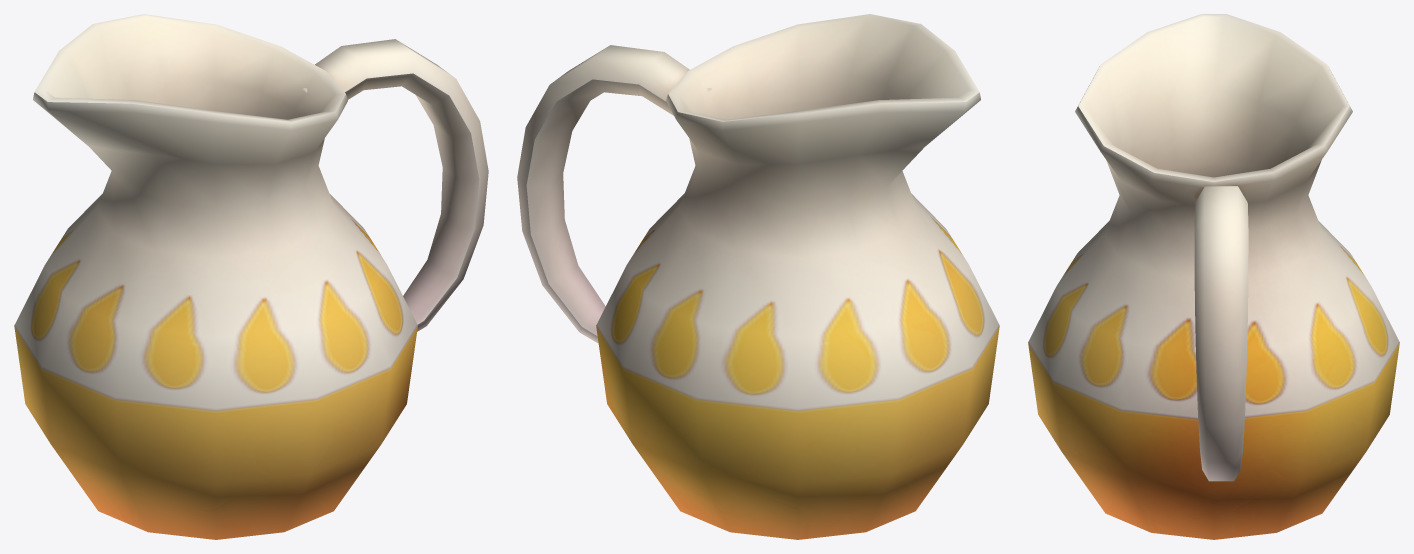
Rendered from SE_Pitcher_01.fbx.
3 views of the same model, side by side, from view 1: azimuth 30°, elevation 25°; view 2: azimuth 150°, elevation 25°; view 3: azimuth 270°, elevation 25° (orthographic). The views are drawn at different scales.
Parts seen in each view (by area): view 1: SE_Pitcher_01; view 2: SE_Pitcher_01; view 3: SE_Pitcher_01.
Boxes of the visible parts, x1,y1,x2,y2 form: SE_Pitcher_01: [14, 14, 488, 539]; SE_Pitcher_01: [517, 14, 999, 539]; SE_Pitcher_01: [1028, 14, 1399, 539].
Bounding box in the file's own units: 2.05 × 1.92 × 1.61.
